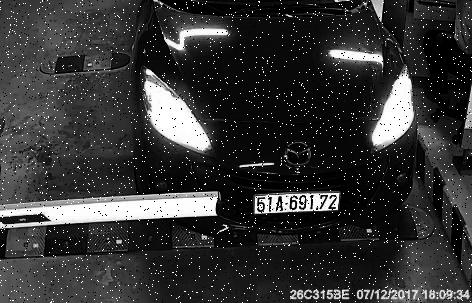License-plate: (237, 182, 356, 223)
